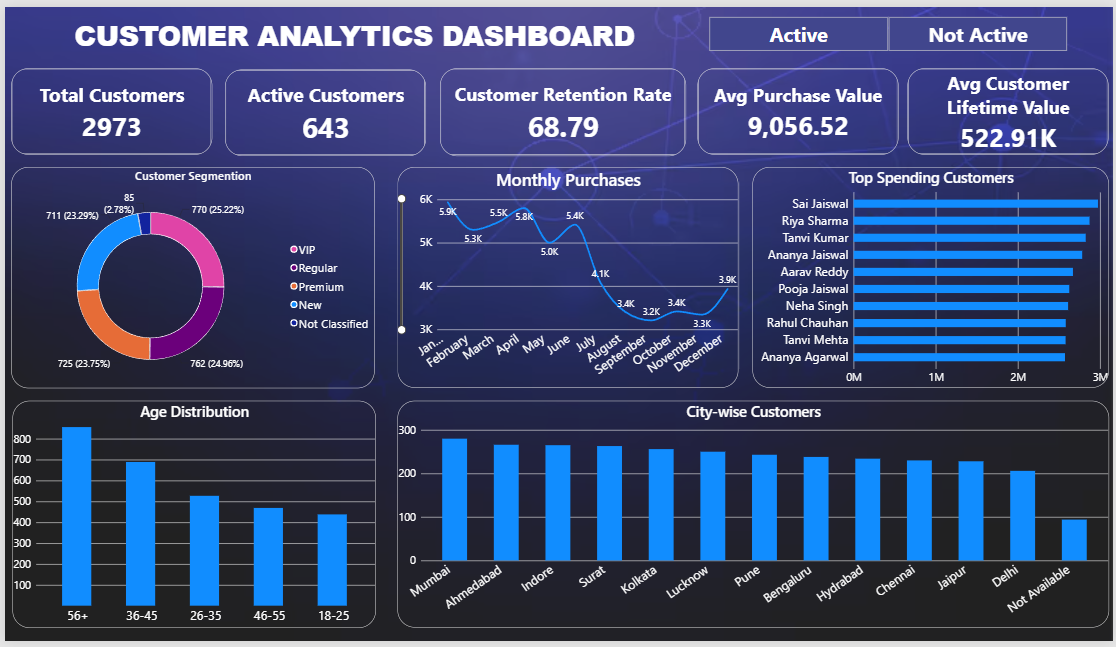

Layout of this report page (visuals, bound fields, positions):
{"tool":"powerbi","page":{"name":"Page 1","canvas":[1927,1103],"ordinal":0},"visuals":[{"type":"textbox","box":[10.3,14.4,1193.8,78.2],"z":0},{"type":"slicer","fields":{"Values":["Sheet1.Active_Customer"]},"box":[1205,14.8,661.7,62.8],"z":1000},{"type":"cardVisual","fields":{"Data":["Count(Sheet1.Customer_ID)"]},"box":[10.3,107,349.9,150.3],"z":2000},{"type":"cardVisual","fields":{"Data":["Sheet1.Active Customer"]},"box":[382.8,109.1,349.9,150.3],"z":3000},{"type":"cardVisual","fields":{"Data":["Sheet1.Customer Retention Rate"]},"box":[756.1,107.4,427.6,152.9],"z":4000},{"type":"cardVisual","fields":{"Data":["Avg(Sheet1.Average_Purchase_Value)"]},"box":[1204.1,107,349.9,150.3],"z":5000},{"type":"cardVisual","fields":{"Data":["Avg(Sheet1.Customer_Lifetime_Value)"]},"box":[1570.5,107,349.9,150.3],"z":6000},{"type":"donutChart","title":"Customer Segmention","fields":{"Category":["Sheet1.Segment"],"Y":["CountNonNull(Sheet1.Customer_ID)"]},"box":[10.3,277.9,631.9,384.9],"z":7000},{"type":"clusteredColumnChart","title":"Age Distribution","fields":{"Y":["Count(Sheet1.Customer_ID)"],"Category":["Sheet1.Age Group"]},"box":[12.3,685.4,631.9,395.2],"z":8000},{"type":"columnChart","title":"City-wise Customers","fields":{"Category":["Sheet1.City"],"Y":["CountNonNull(Sheet1.Customer_ID)"]},"box":[681.7,685.9,1237.4,394.6],"z":9000},{"type":"lineChart","title":"Monthly Purchases","fields":{"Y":["Sum(Sheet1.Purchase_Count)"],"Category":["Sheet1.Last_Purchase_Date.Variation.Date Hierarchy.Month"]},"box":[681.7,278.9,592.9,384.2],"z":10000},{"type":"barChart","title":"Top Spending Customers","fields":{"Category":["Sheet1.Customer_Name"],"Y":["Sum(Sheet1.Total_Spent)"]},"box":[1299.4,278.9,619.7,384.2],"z":11000}]}

Visuals, with their boxes in screenshot pixels (x1, y1, x2, y2), scaled from the page's 1927x1103 canvas onto the 1116x647 screenshot:
textbox: box=[6, 8, 697, 54]
slicer - Sheet1.Active_Customer: box=[698, 9, 1081, 46]
cardVisual - Count(Sheet1.Customer_ID): box=[6, 63, 209, 151]
cardVisual - Sheet1.Active Customer: box=[222, 64, 424, 152]
cardVisual - Sheet1.Customer Retention Rate: box=[438, 63, 686, 153]
cardVisual - Avg(Sheet1.Average_Purchase_Value): box=[697, 63, 900, 151]
cardVisual - Avg(Sheet1.Customer_Lifetime_Value): box=[910, 63, 1112, 151]
"Customer Segmention" donutChart: box=[6, 163, 372, 389]
"Age Distribution" clusteredColumnChart: box=[7, 402, 373, 634]
"City-wise Customers" columnChart: box=[395, 402, 1111, 634]
"Monthly Purchases" lineChart: box=[395, 164, 738, 389]
"Top Spending Customers" barChart: box=[753, 164, 1111, 389]
